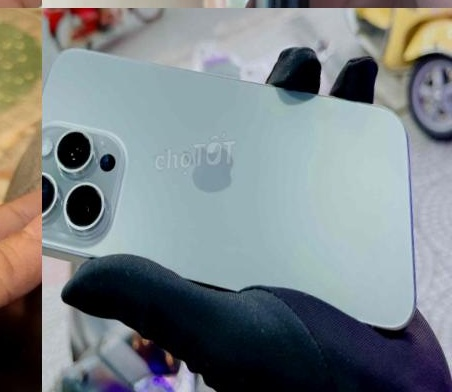scratch: (0, 349, 42, 392)
